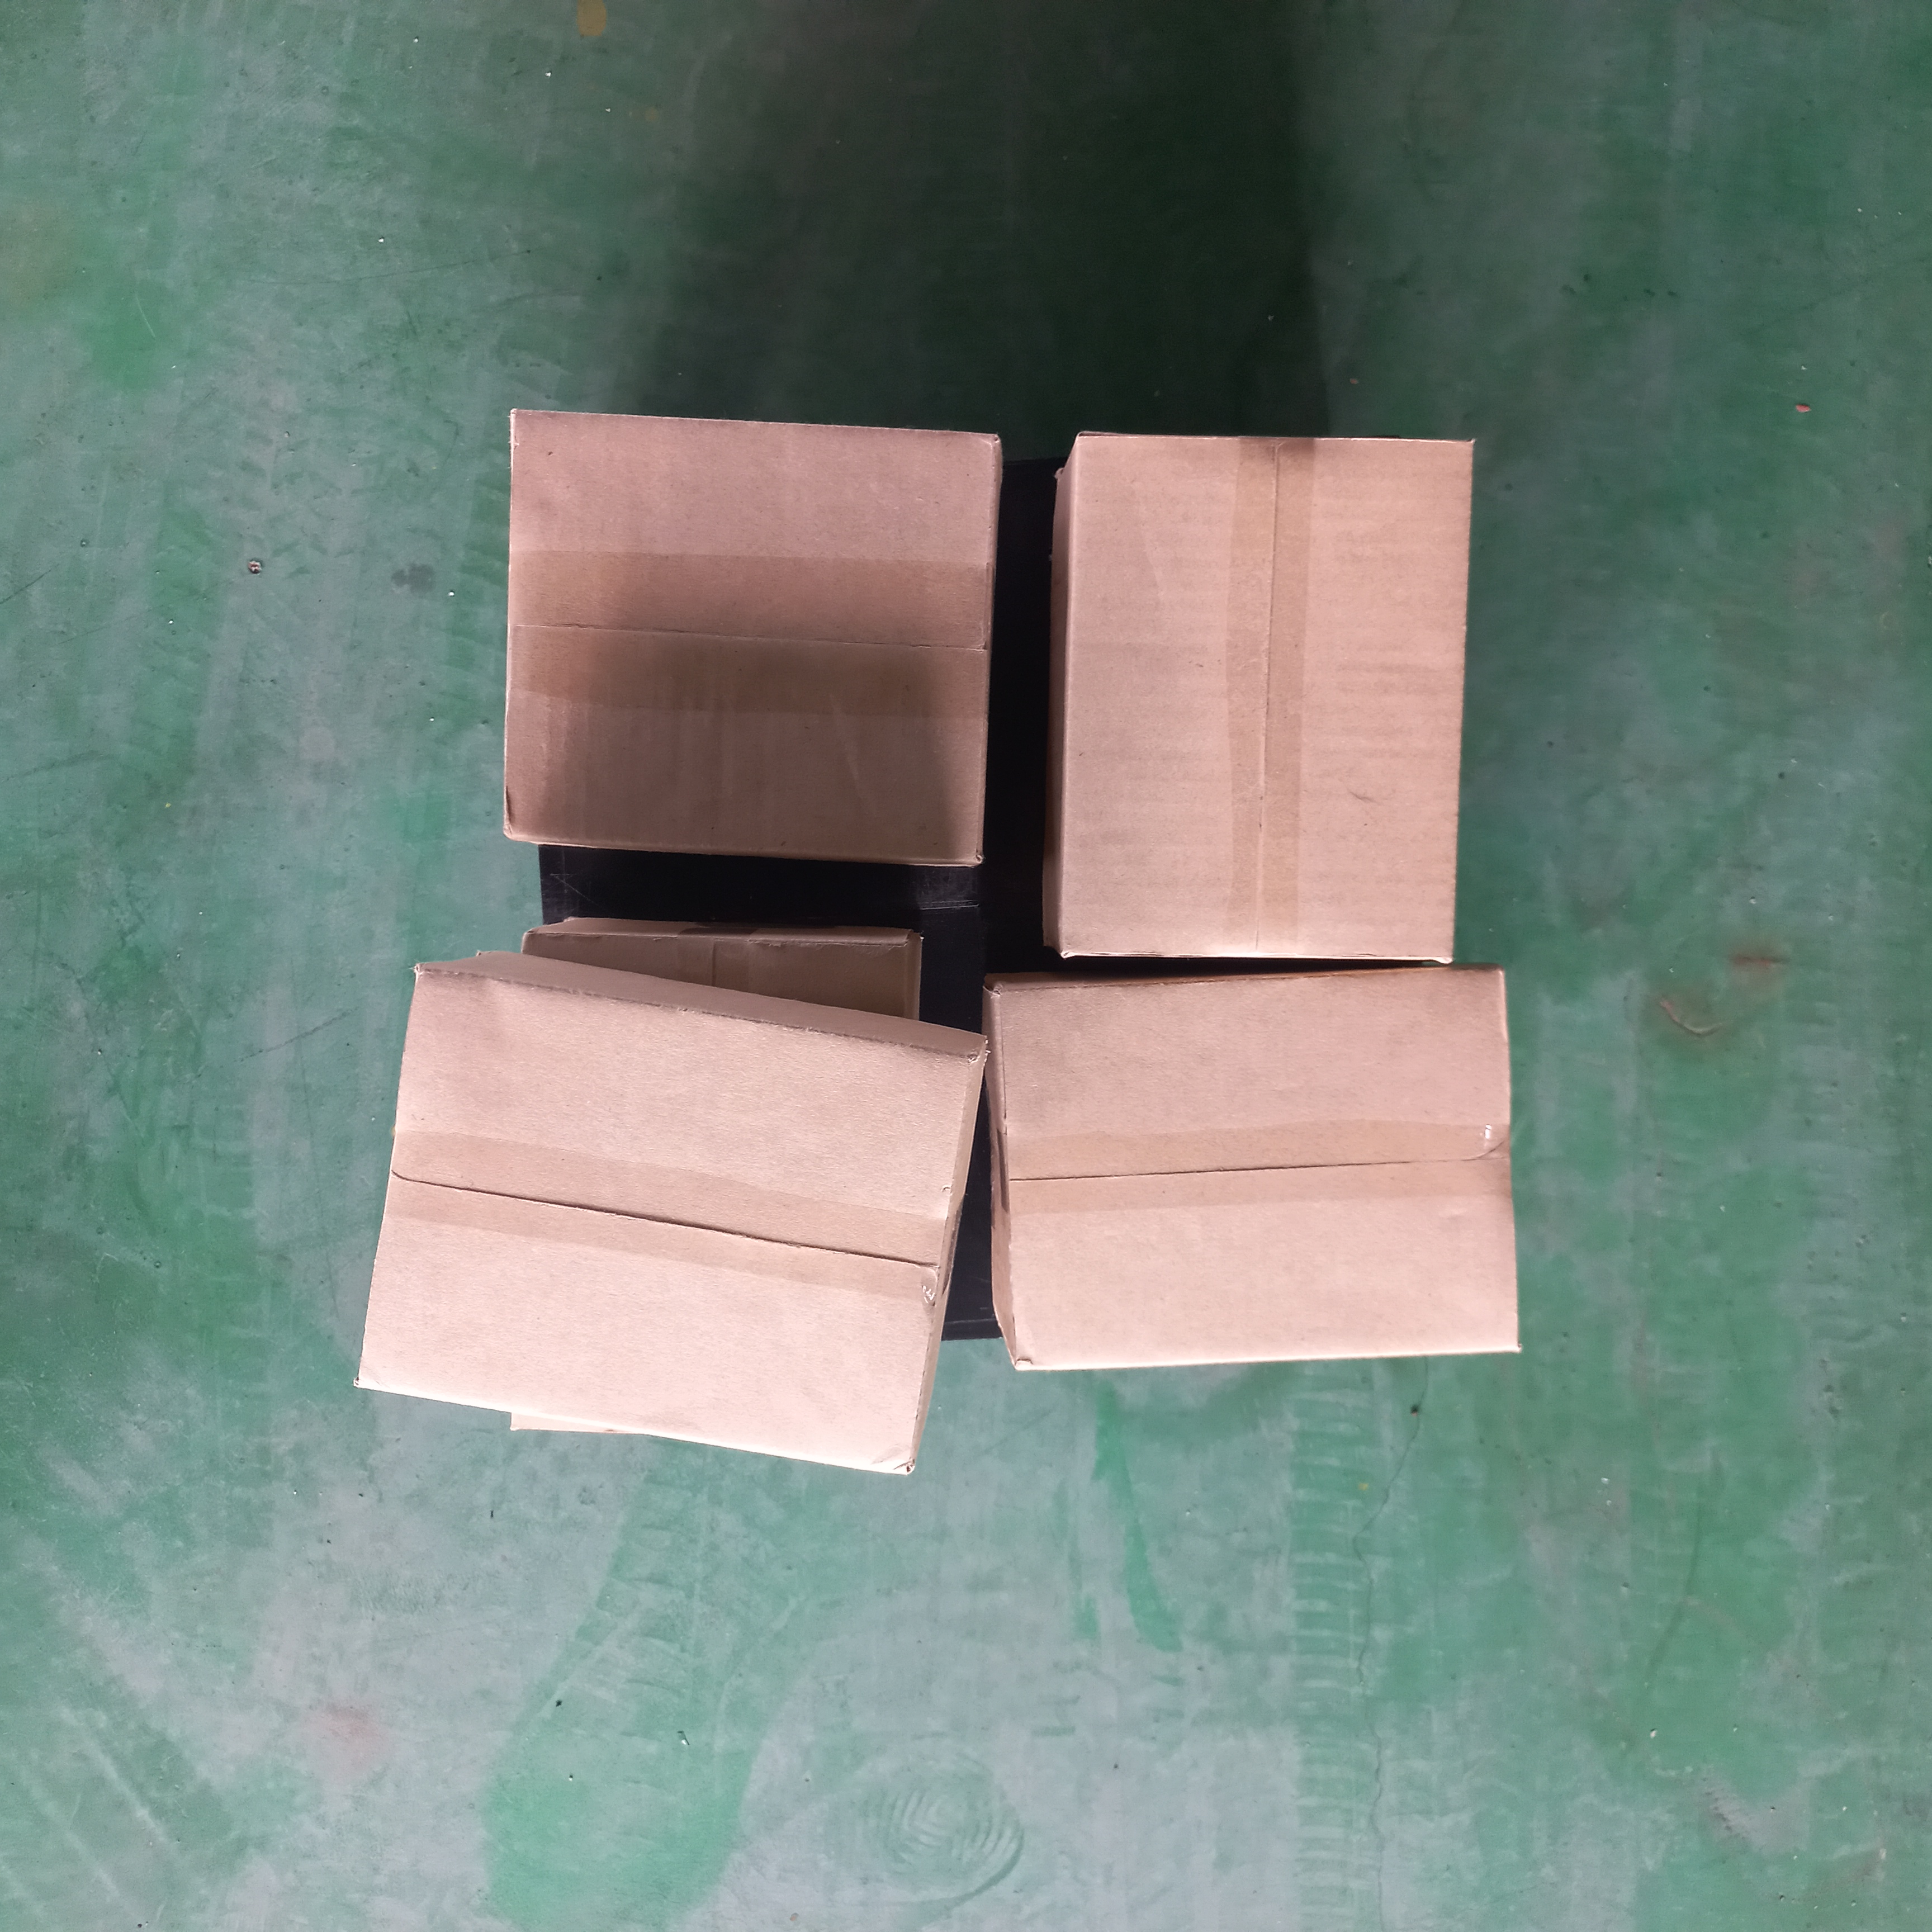box: (350, 941, 985, 1481), (494, 398, 1003, 878), (1053, 426, 1474, 973), (984, 961, 1523, 1375)
